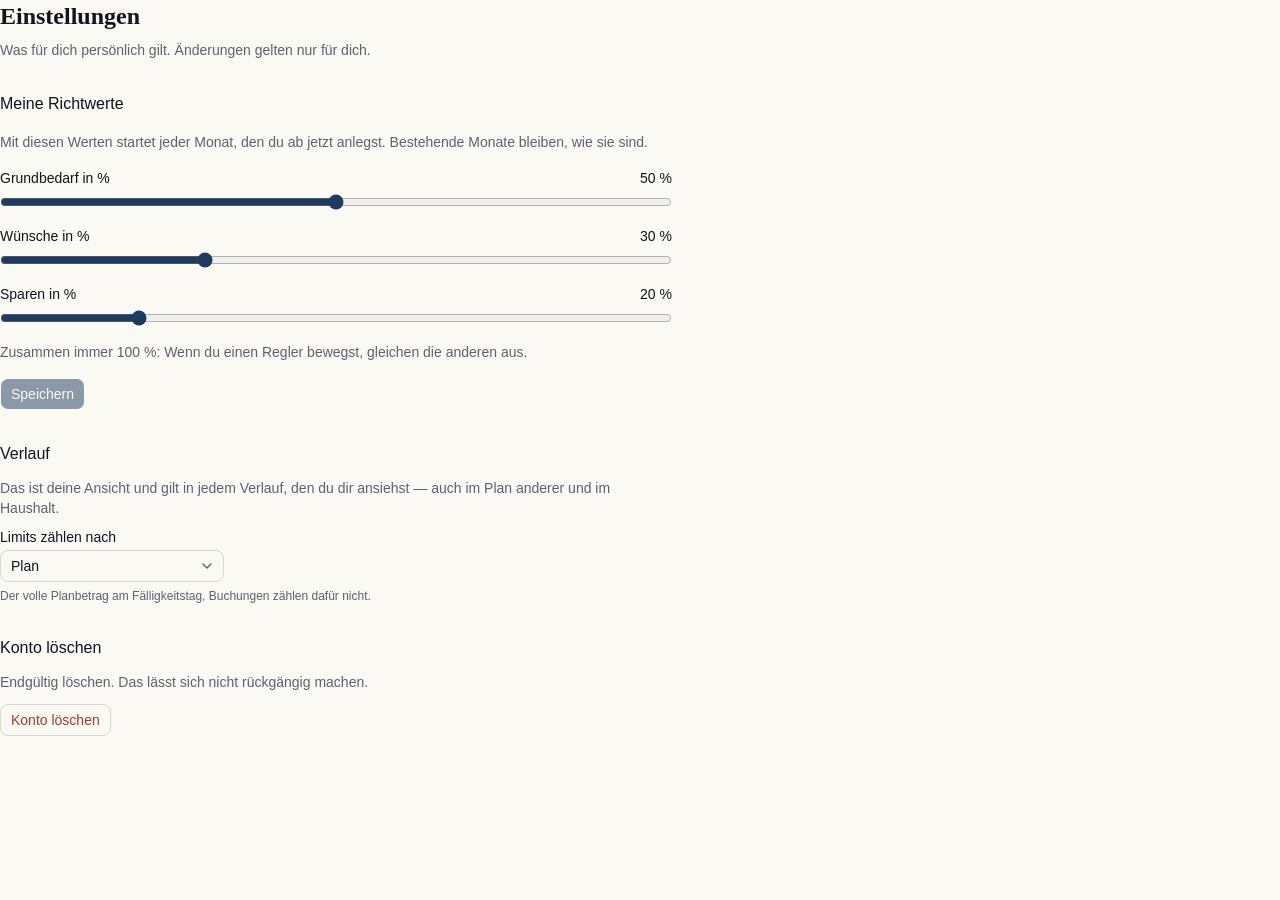
Test: deleting the account › the confirmation names what disappears, what stays, and household handover
This screenshot has width=1280, height=900.
Click the button "Konto löschen" at (55, 720), box left=0, top=704, right=111, bottom=736
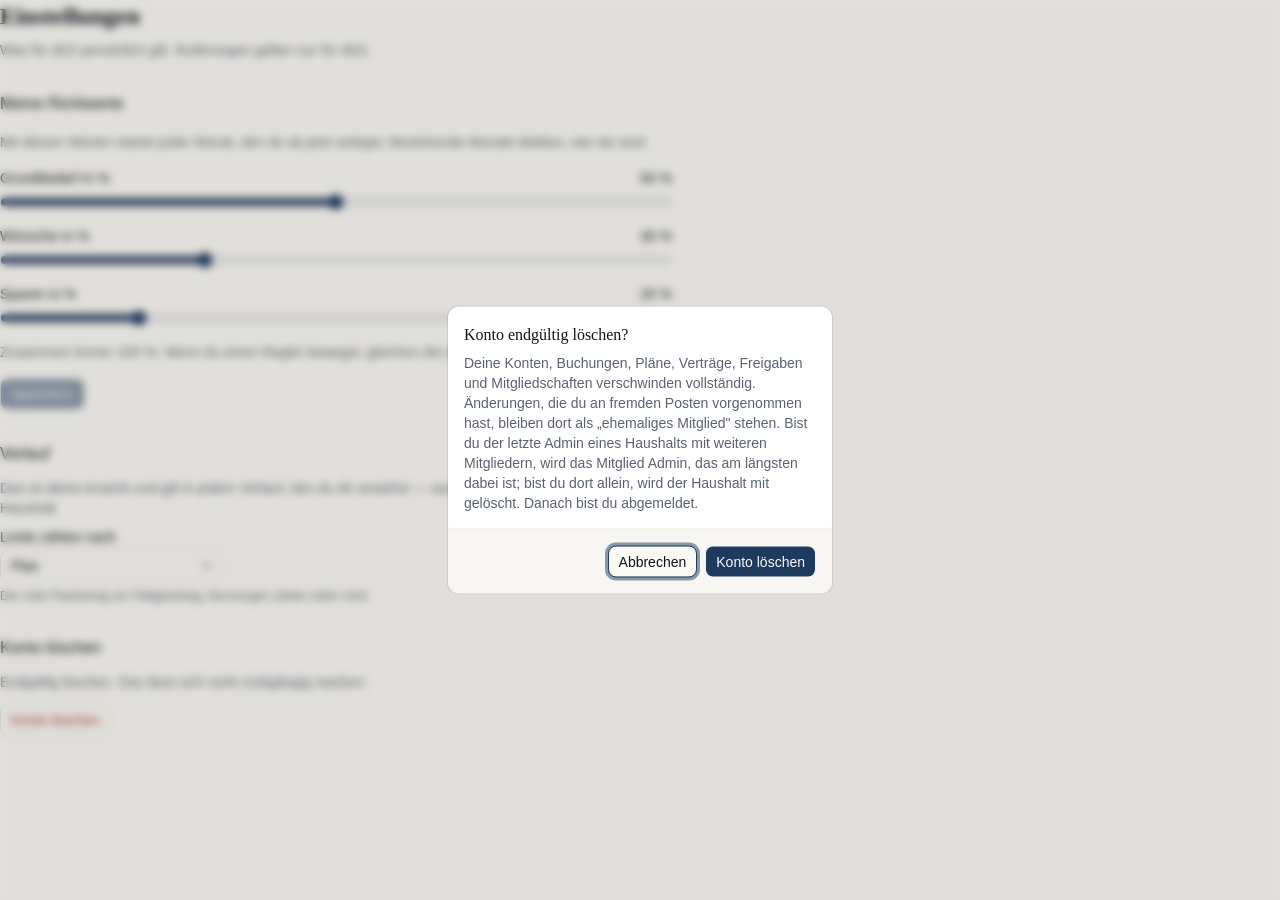
Check: the dialog is shown, box left=448, top=306, right=832, bottom=594
Check: the text "Deine Konten, Buchungen, Pläne, Verträge, Freigaben und Mitgliedschaften verschwinden vollständig. Änderungen, die du an" is shown, box left=464, top=354, right=808, bottom=510
